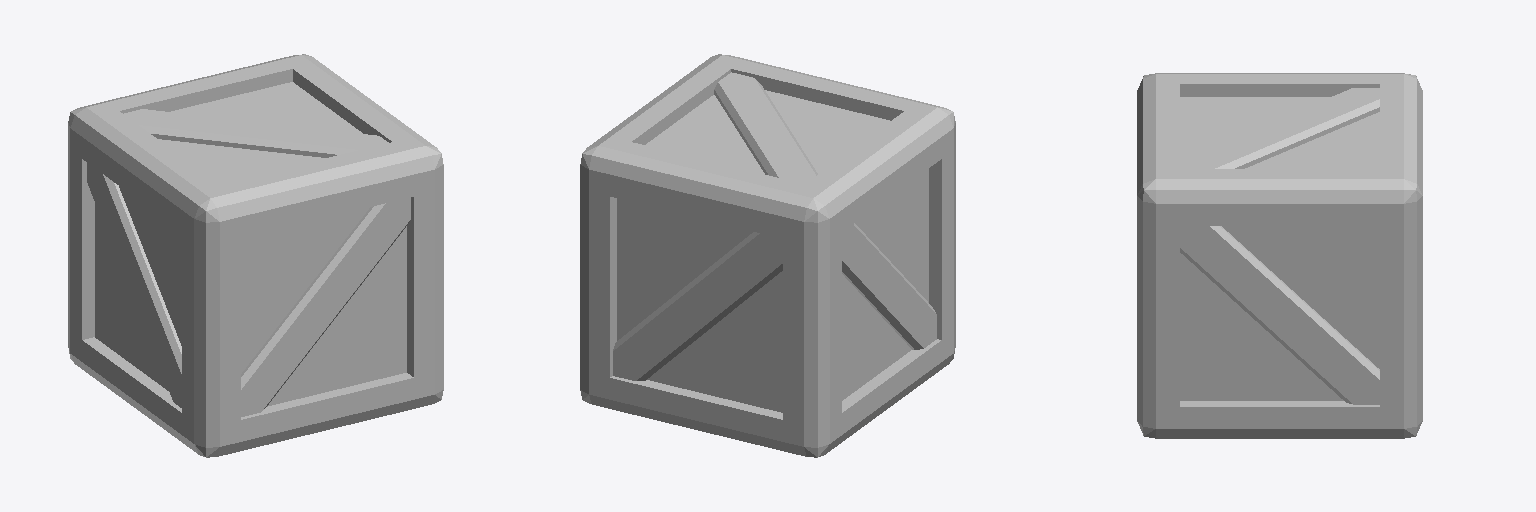
The model's file is Crate.obj.
3 views of the same model, side by side, from view 1: azimuth 30°, elevation 25°; view 2: azimuth 150°, elevation 25°; view 3: azimuth 270°, elevation 25° (orthographic).
Parts seen in each view (by area): view 1: Crate.038; view 2: Crate.038; view 3: Crate.038.
Boxes of the visible parts, box(x1,y1,x2,y2) form: Crate.038: box(68, 54, 443, 457); Crate.038: box(580, 54, 955, 457); Crate.038: box(1137, 73, 1422, 438).
Bounding box in the file's own units: 0.7898 × 0.7898 × 0.7898.